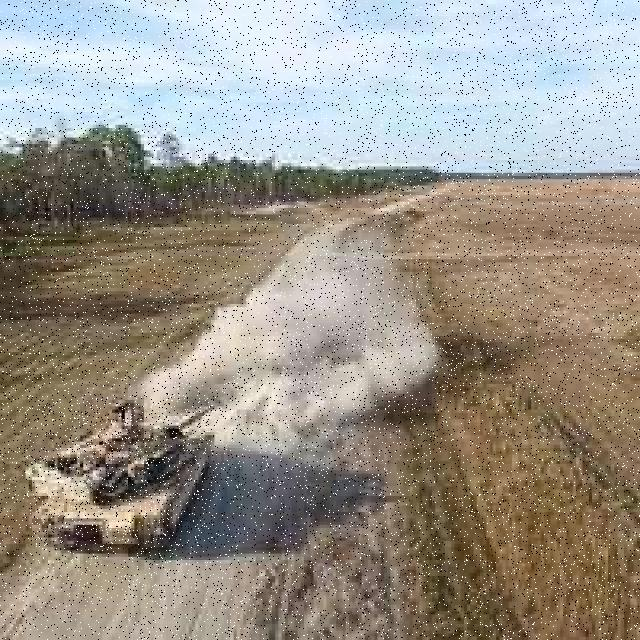MIL_MBT: (24, 395, 216, 552)
